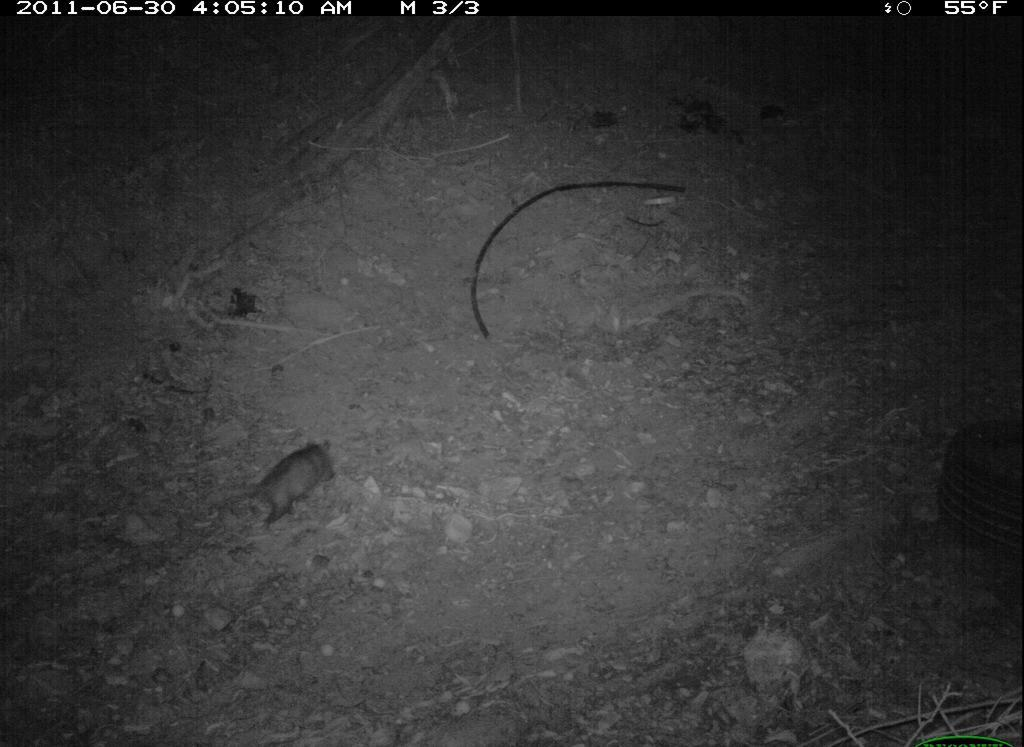opossum: (231, 432, 346, 536)
